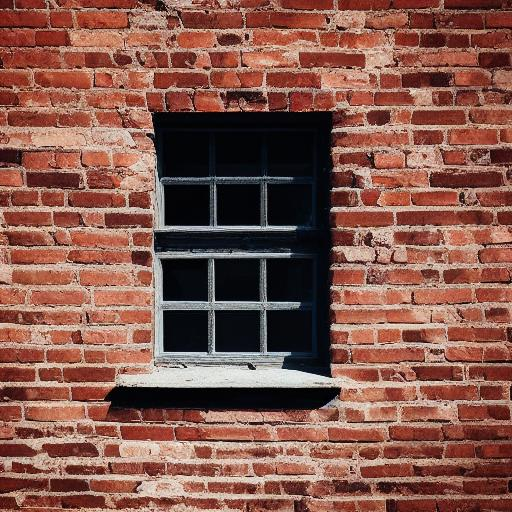Window: (111, 107, 351, 402)
